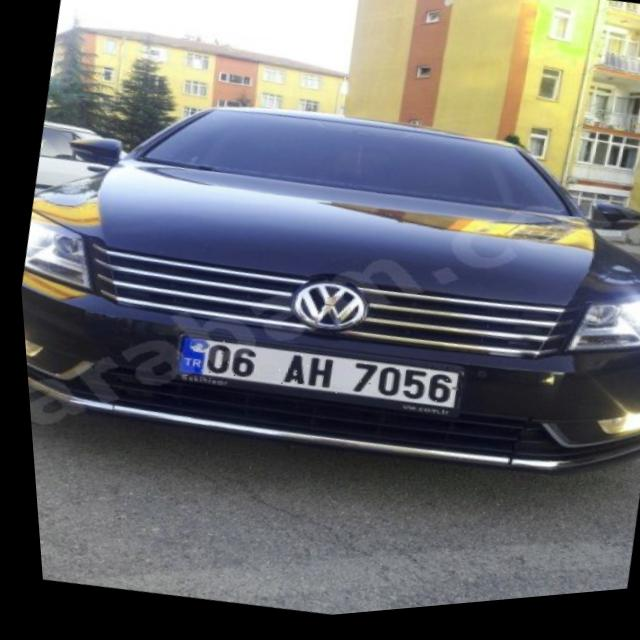license_plate: (167, 318, 457, 436)
